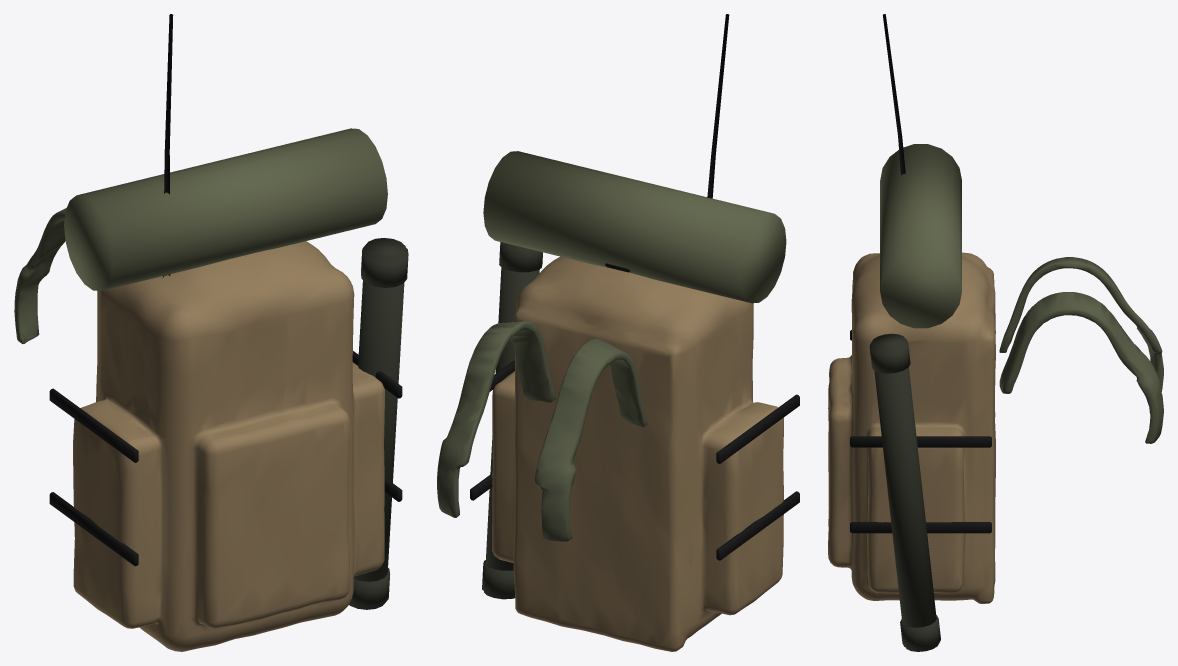
File: pack_ruck.glb
3 views of the same model, side by side, from view 1: azimuth 30°, elevation 25°; view 2: azimuth 150°, elevation 25°; view 3: azimuth 270°, elevation 25° (orthographic). The views are drawn at different scales.
Visible parts, largest first — view 1: pack_ruck_LOD0; view 2: pack_ruck_LOD0; view 3: pack_ruck_LOD0.
Part boxes in pixels (left/top/right/bottom): pack_ruck_LOD0: left=14, top=14, right=408, bottom=651; pack_ruck_LOD0: left=437, top=14, right=799, bottom=651; pack_ruck_LOD0: left=828, top=14, right=1163, bottom=651.
Size of what is drawn, in the model's own units: 0.5411 by 1.14 by 0.6391.
